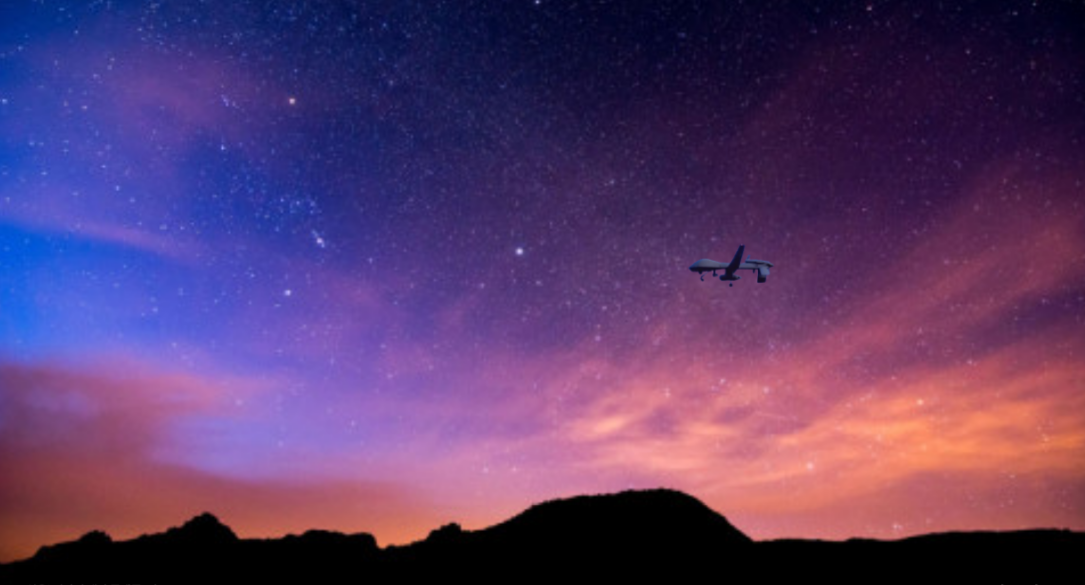military drone: (688, 244, 774, 286)
